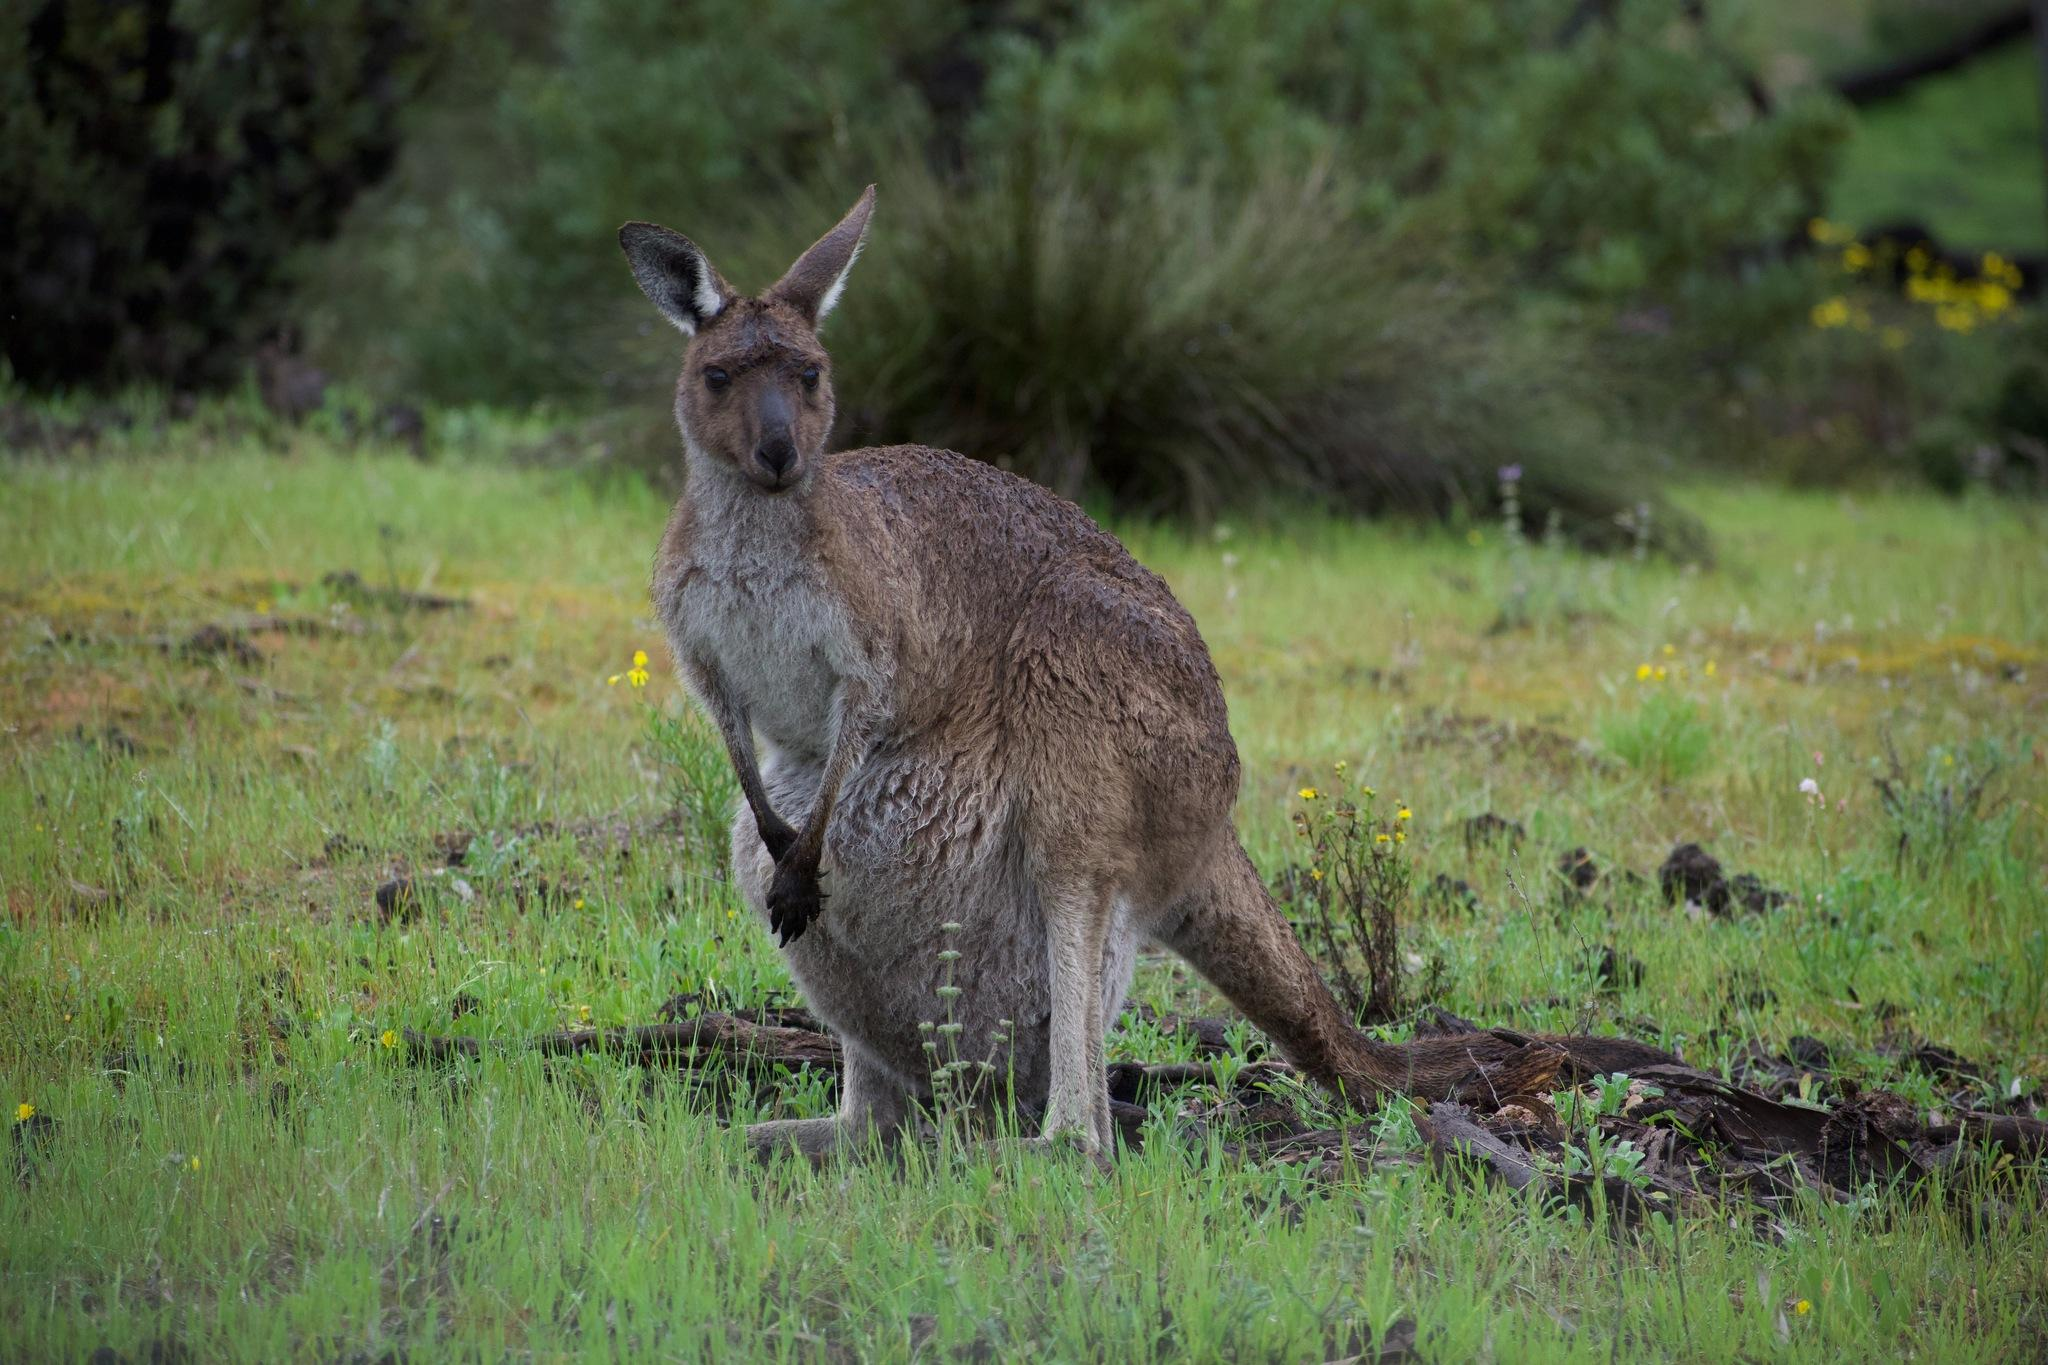Western grey kangaroo: (608, 181, 1698, 1184)
